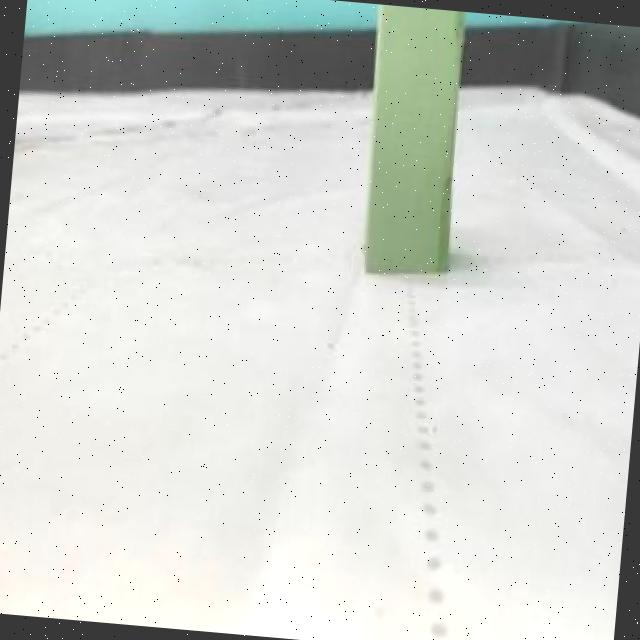greenbox: (355, 4, 471, 283)
